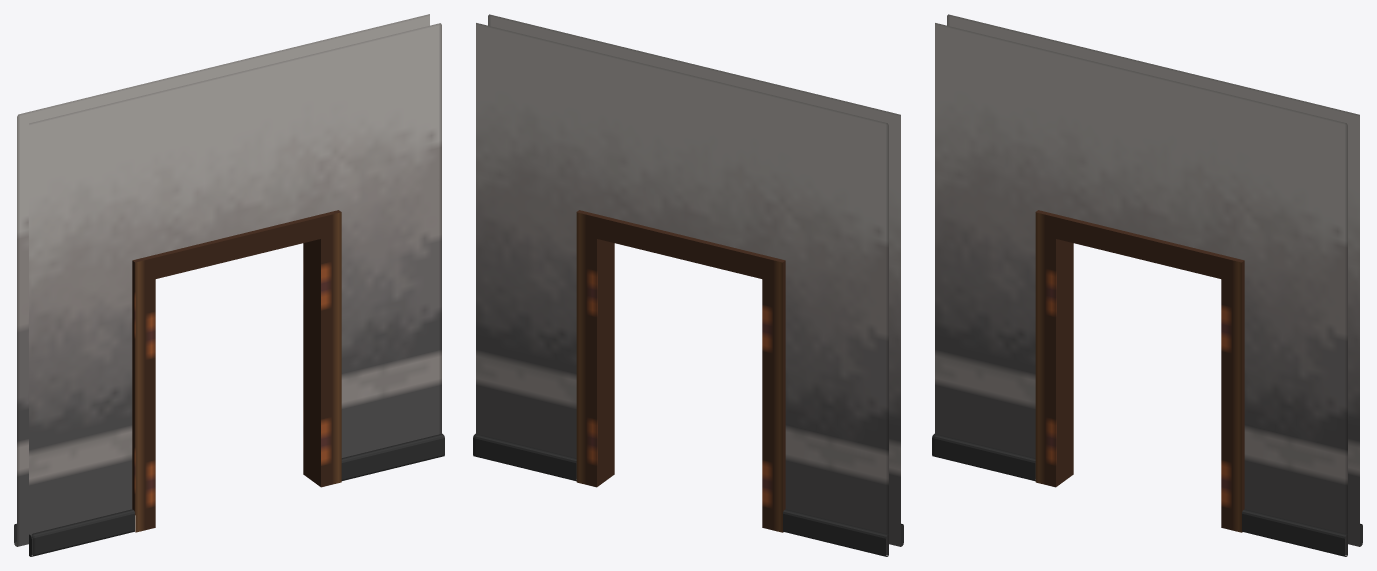
Rendered from Wall_Door_TipoE.fbx.
The picture shows the model from 3 angles, left to right: view 1: azimuth 30°, elevation 25°; view 2: azimuth 150°, elevation 25°; view 3: azimuth 330°, elevation 25°; orthographic projection.
Parts seen in each view (by area): view 1: Cube.139, Cube.138, Cube.133; view 2: Cube.139, Cube.138, Cube.137; view 3: Cube.139, Cube.138, Cube.133.
Part boxes in pixels (bbox=[...]): Cube.139: bbox=[17, 14, 441, 554]; Cube.138: bbox=[132, 210, 341, 532]; Cube.133: bbox=[29, 433, 444, 556]; Cube.139: bbox=[476, 14, 900, 555]; Cube.138: bbox=[576, 210, 785, 532]; Cube.137: bbox=[473, 433, 888, 556]; Cube.139: bbox=[935, 14, 1359, 555]; Cube.138: bbox=[1035, 210, 1244, 532]; Cube.133: bbox=[932, 433, 1347, 556].
Bounding box in the file's own units: 400 × 400 × 30.
